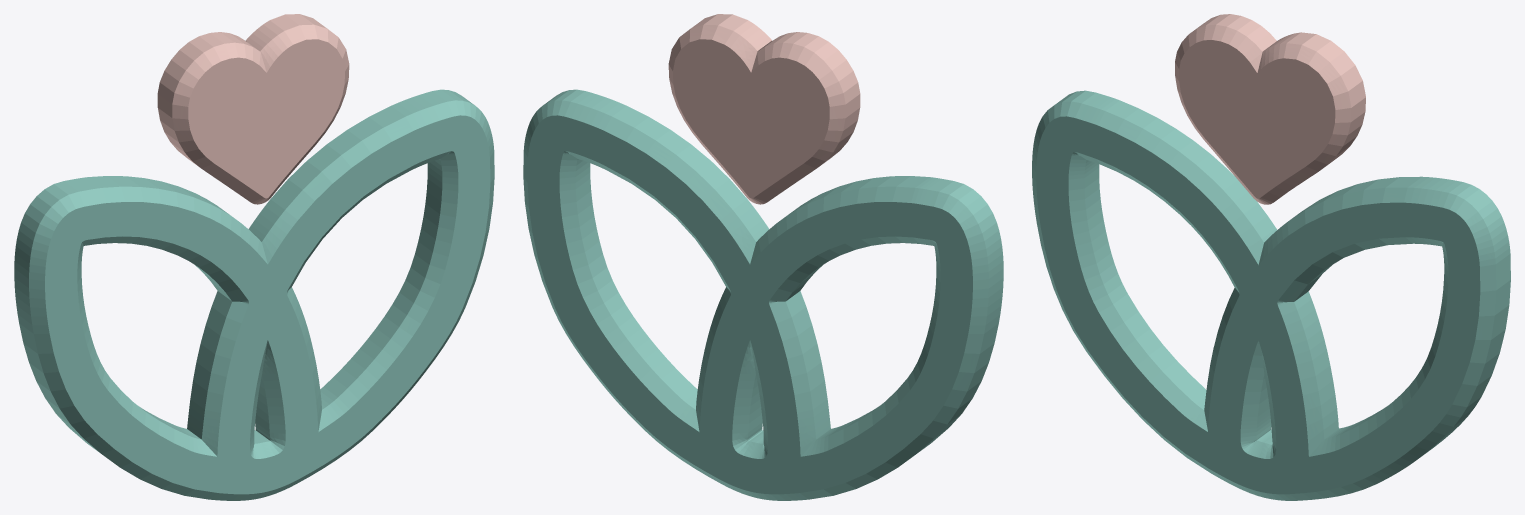
Rendered from mothernature.fbx.
3 views of the same model, side by side, from view 1: azimuth 30°, elevation 25°; view 2: azimuth 150°, elevation 25°; view 3: azimuth 330°, elevation 25° (orthographic).
Parts seen in each view (by area): view 1: polySurface1; view 2: polySurface1; view 3: polySurface1.
Boxes of the visible parts, left/top/right/bottom form: polySurface1: left=14, top=14, right=494, bottom=500; polySurface1: left=523, top=14, right=1003, bottom=500; polySurface1: left=1032, top=14, right=1510, bottom=500.
Bounding box in the file's own units: 4.58 × 4.35 × 0.45.
